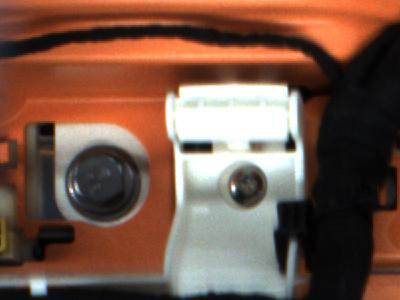nut_b: (62, 145, 142, 221)
